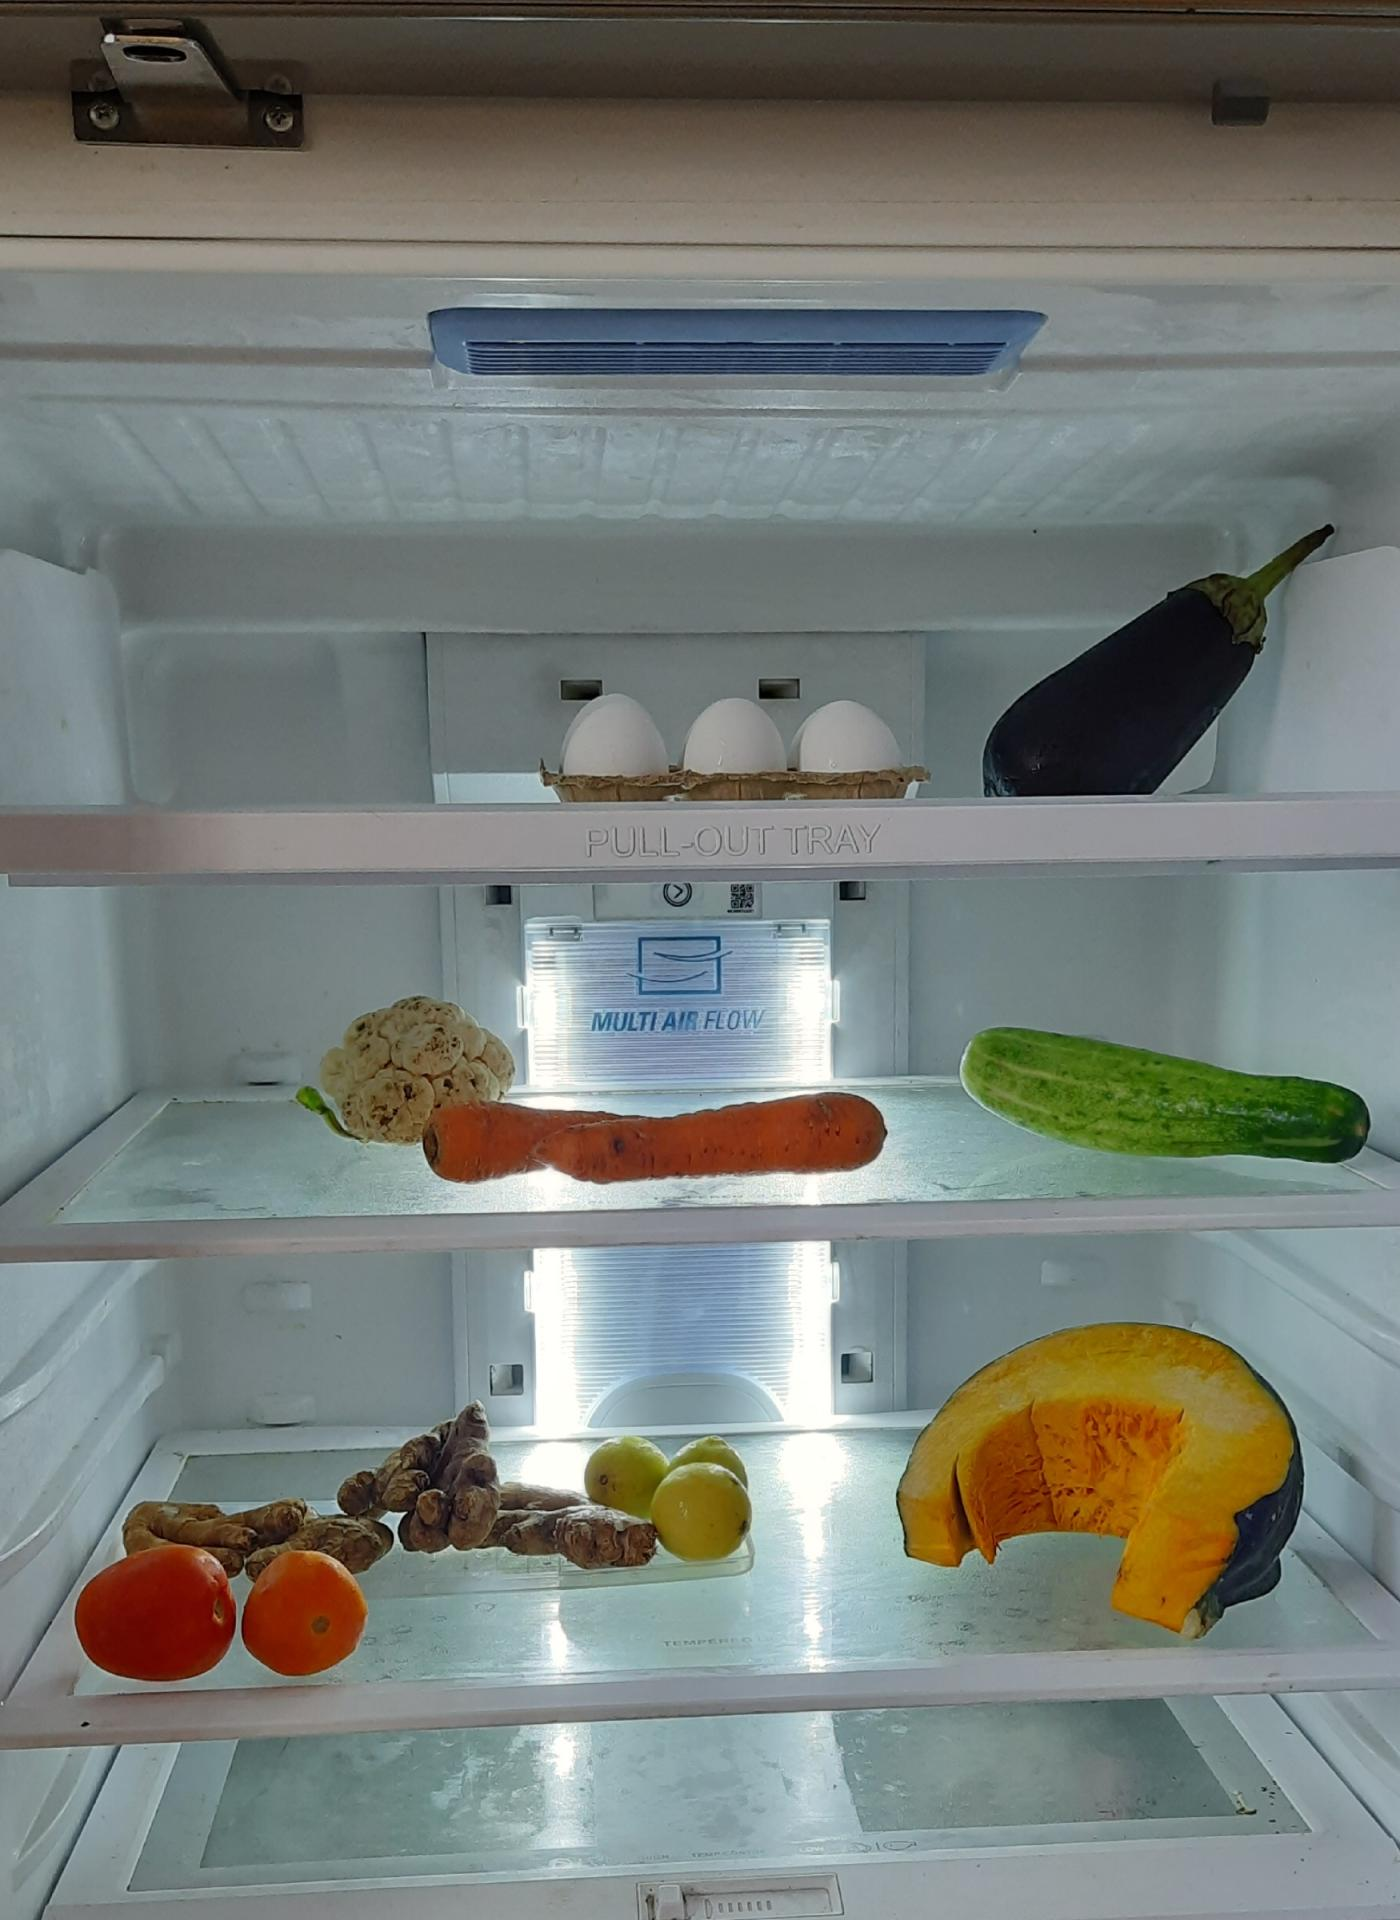brinjal: (975, 487, 1334, 806)
carrots: (432, 1097, 901, 1200)
cauliflower: (306, 991, 517, 1134)
cucumber: (950, 1020, 1375, 1163)
egg: (523, 675, 941, 817)
ginger: (315, 1398, 658, 1570)
lemon: (578, 1427, 754, 1559)
pumpkin: (889, 1321, 1311, 1644)
tomato: (76, 1534, 377, 1687)
